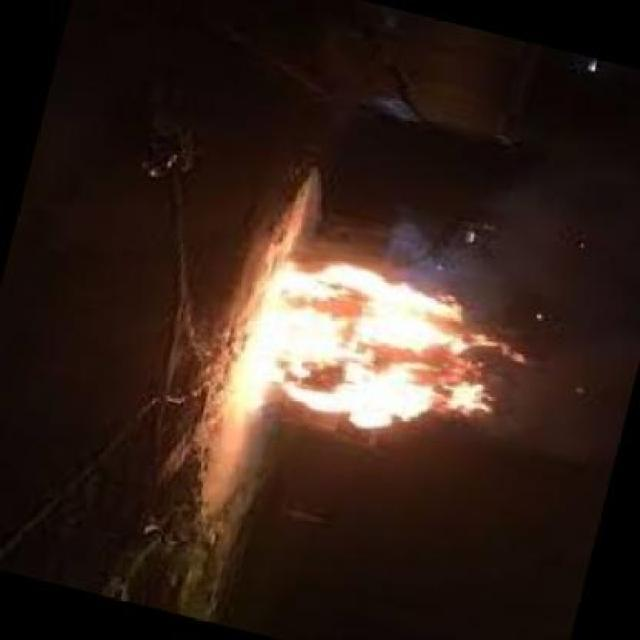Fire: (228, 252, 512, 437)
